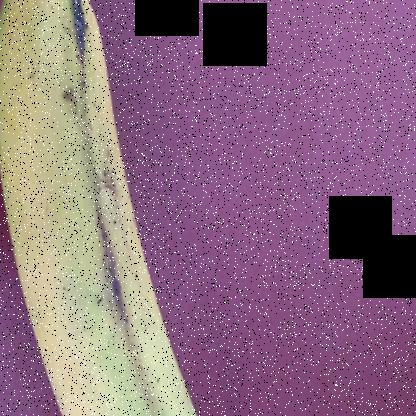ripe: (0, 8, 230, 415)
